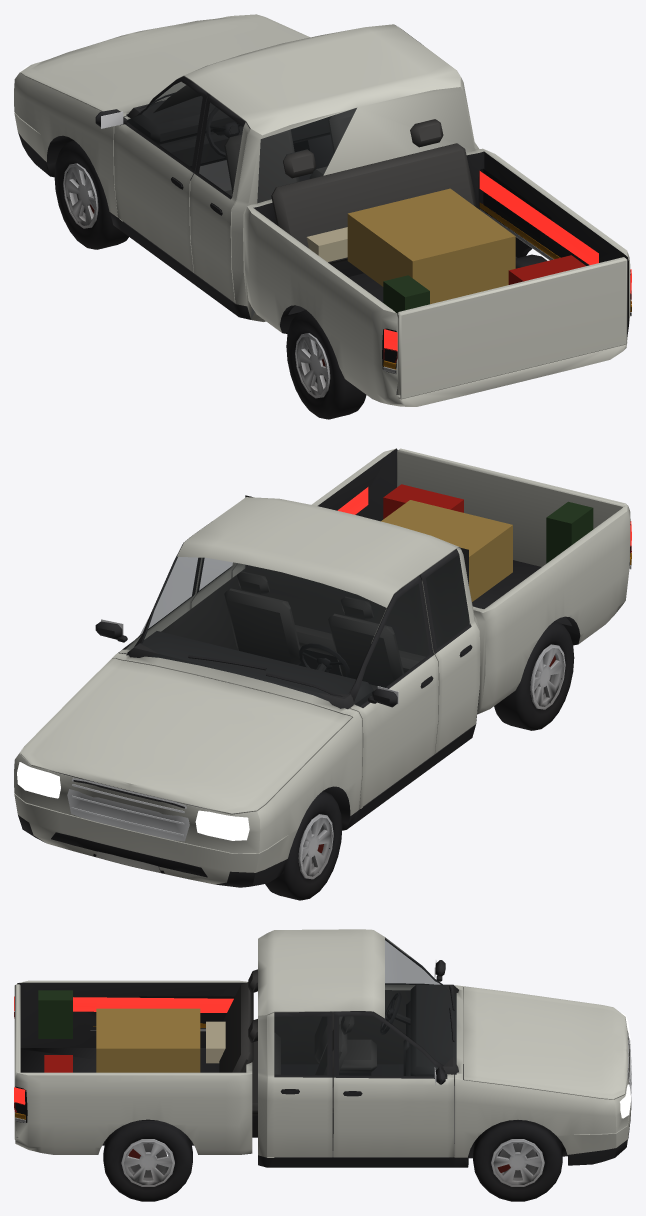
File: pickup_a.glb
The picture shows the model from 3 angles, top to bottom: view 1: azimuth 30°, elevation 25°; view 2: azimuth 150°, elevation 25°; view 3: azimuth 270°, elevation 25°; orthographic projection. The views are drawn at different scales.
Visible parts, largest first — view 1: pickup_a_body, load_bale, wheel_rl, wheel_fl, lamp_tail_r, load_jerrycan, load_toolbox, load_feed_sack; view 2: pickup_a_body, load_bale, wheel_rl, wheel_fl, load_jerrycan, load_toolbox, lamp_head_l, lamp_head_r; view 3: pickup_a_body, load_bale, wheel_rr, wheel_fr, lamp_tail_l, load_jerrycan, load_feed_sack, load_toolbox.
Part boxes in pixels (box(x1,y1,x2,y2)): pickup_a_body: box(14, 14, 631, 406); load_bale: box(347, 188, 515, 304); wheel_rl: box(286, 310, 366, 419); wheel_fl: box(54, 140, 128, 249); lamp_tail_r: box(479, 171, 631, 293); load_jerrycan: box(383, 275, 429, 313); load_toolbox: box(508, 255, 585, 284); load_feed_sack: box(306, 227, 347, 262); pickup_a_body: box(14, 448, 631, 887); load_bale: box(381, 500, 512, 601); wheel_rl: box(494, 621, 574, 730); wheel_fl: box(265, 791, 342, 900); load_jerrycan: box(546, 501, 593, 563); load_toolbox: box(383, 484, 463, 518); lamp_head_l: box(195, 810, 249, 840); lamp_head_r: box(17, 762, 60, 798); pickup_a_body: box(14, 929, 631, 1172); load_bale: box(96, 1008, 200, 1072); wheel_rr: box(103, 1120, 192, 1201); wheel_fr: box(473, 1120, 562, 1201); lamp_tail_l: box(14, 996, 233, 1012); load_jerrycan: box(38, 990, 72, 1038); load_feed_sack: box(206, 1021, 225, 1063); load_toolbox: box(44, 1055, 72, 1072).
Bounding box in the file's own units: 2.4 × 1.83 × 5.35.
